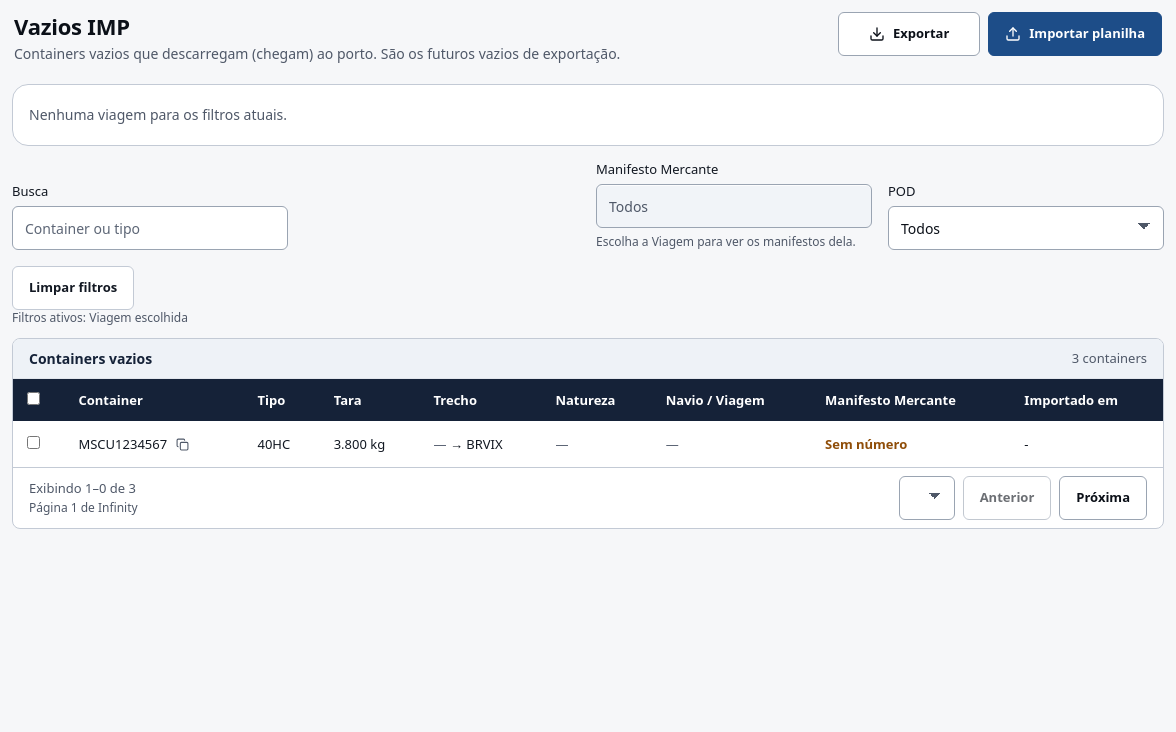
VaziosImportacao — Atribuição em Lote de Natureza › com várias páginas, o cabeçalho seleciona os containers de todas elas
Click the checkbox named "Selecionar todos os containers do filtro (3)": (34, 398) [27, 392, 40, 405]
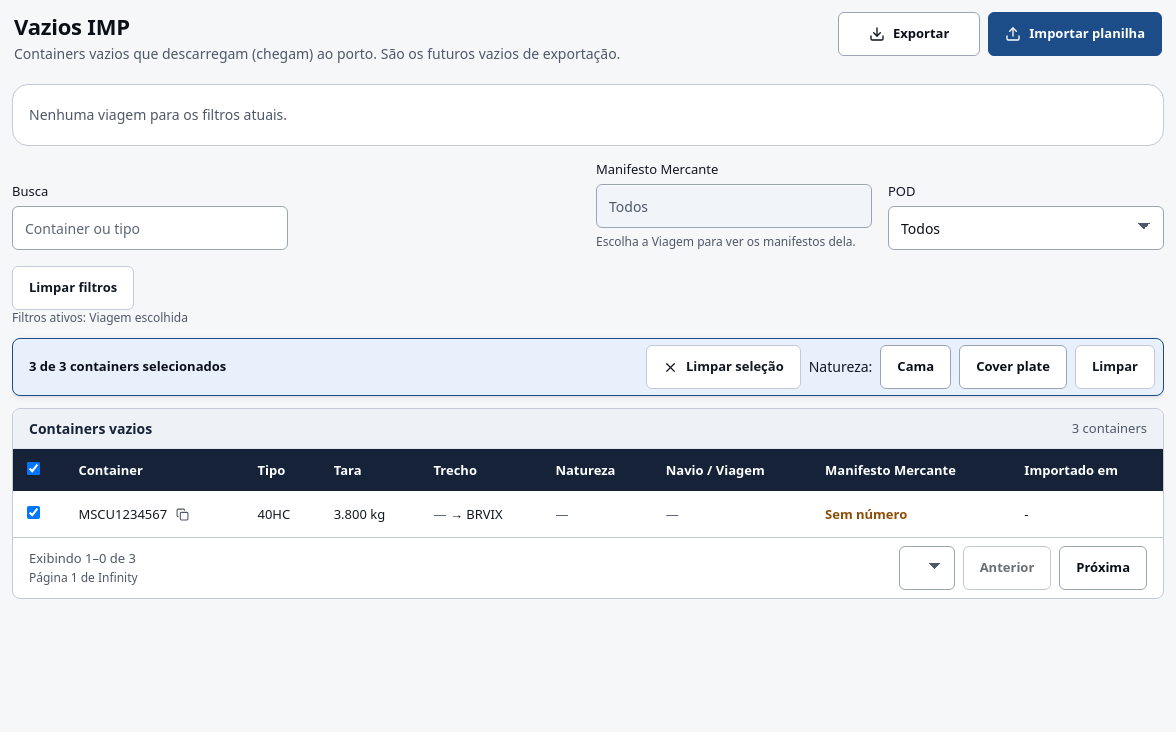
Check: the text "3 de 3 containers selecionados" is shown, box [29, 357, 226, 377]
Marcado tudo, o cabeçalho desmarca o filtro inteiro.
Click the checkbox named "Desmarcar todos os containers do filtro (3)": (34, 468) [27, 462, 40, 475]
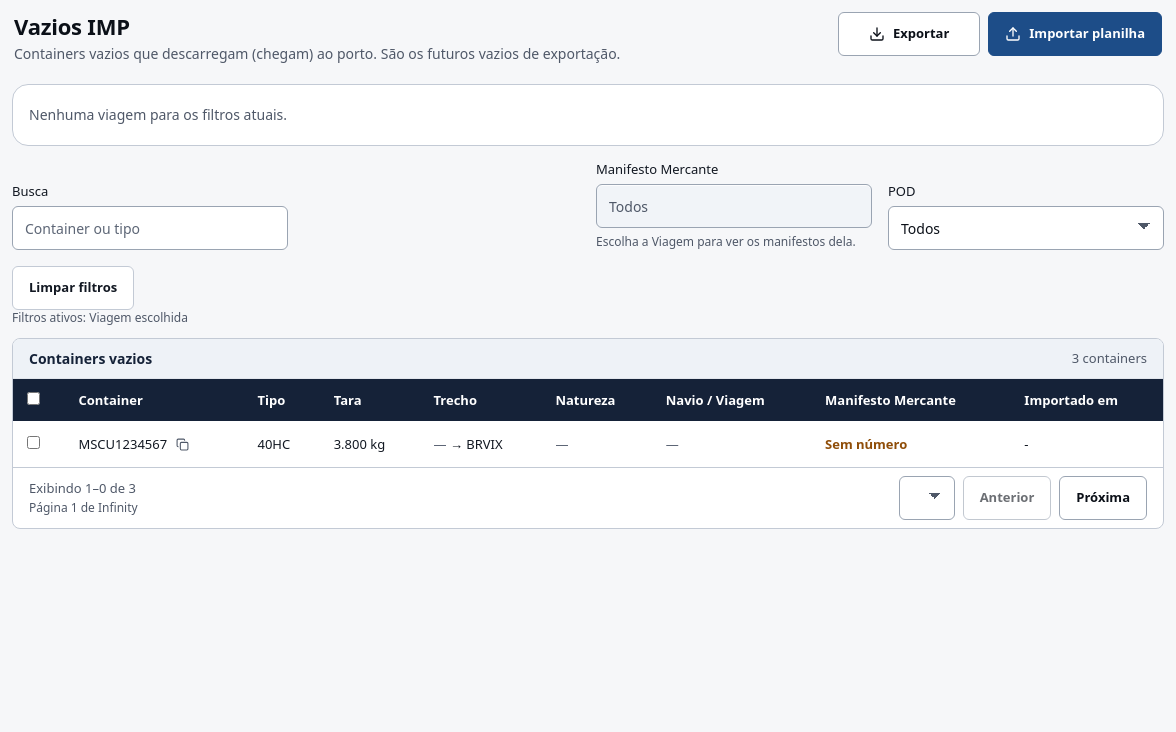
Check: the text "containers selecionados" is gone
